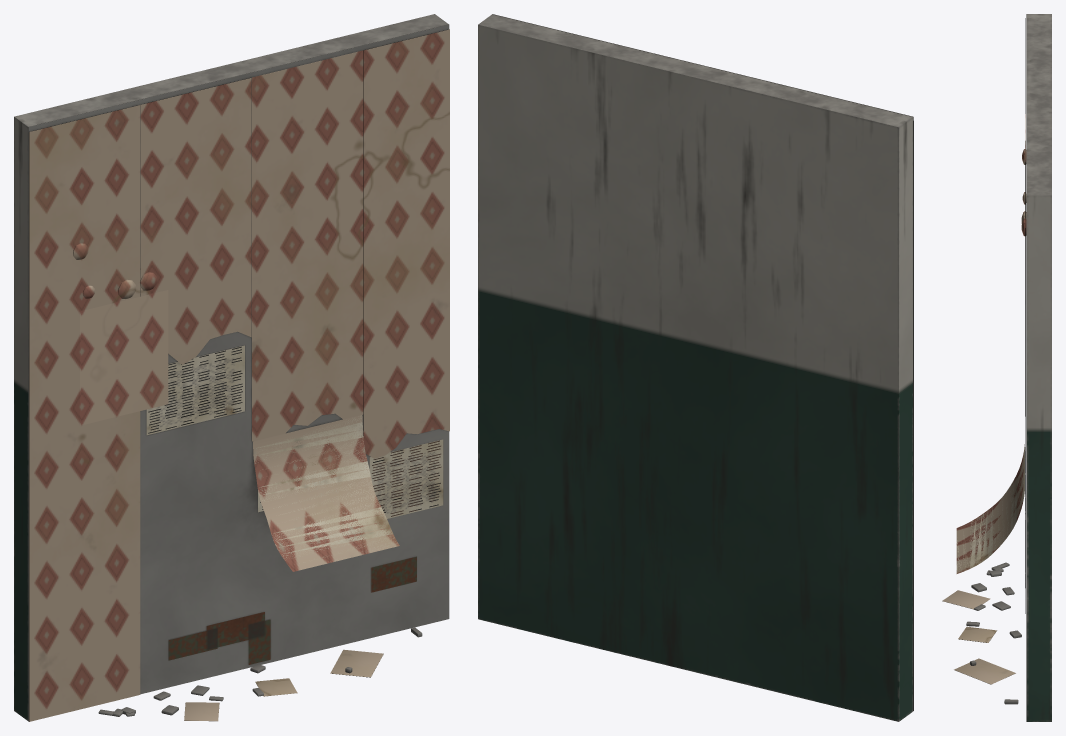
File: SM_Wall_Wallpaper_B.fbx
3 renders of one model, left to right at view 1: azimuth 30°, elevation 25°; view 2: azimuth 150°, elevation 25°; view 3: azimuth 270°, elevation 25°, orthographic. The views are drawn at different scales.
Parts seen in each view (by area): view 1: SM_Wall_Wallpaper_B; view 2: SM_Wall_Wallpaper_B; view 3: SM_Wall_Wallpaper_B.
Boxes of the visible parts, x1,y1,x2,y2 form: SM_Wall_Wallpaper_B: (14,14,449,721); SM_Wall_Wallpaper_B: (478,14,913,721); SM_Wall_Wallpaper_B: (942,14,1051,721).
Bounding box in the file's own units: 2 × 2.7 × 0.5109.
Materials: 1 (1 with a texture image).
